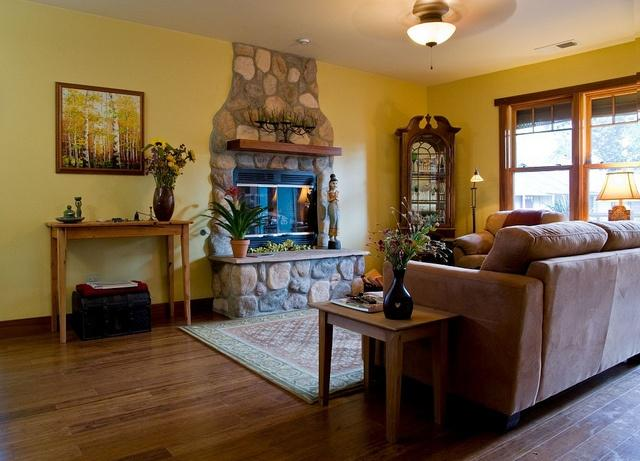Meja: (307, 293, 462, 442), (44, 219, 194, 340)
